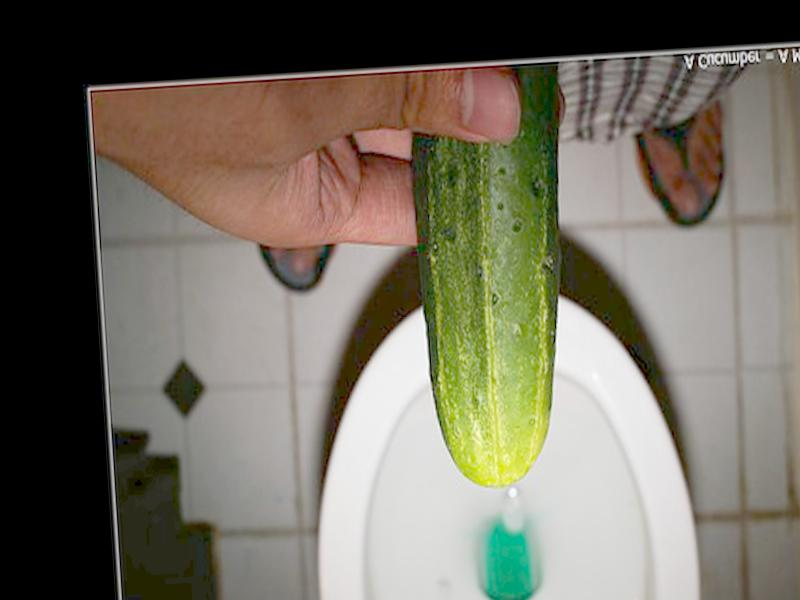Cucumber: (407, 54, 582, 490)
